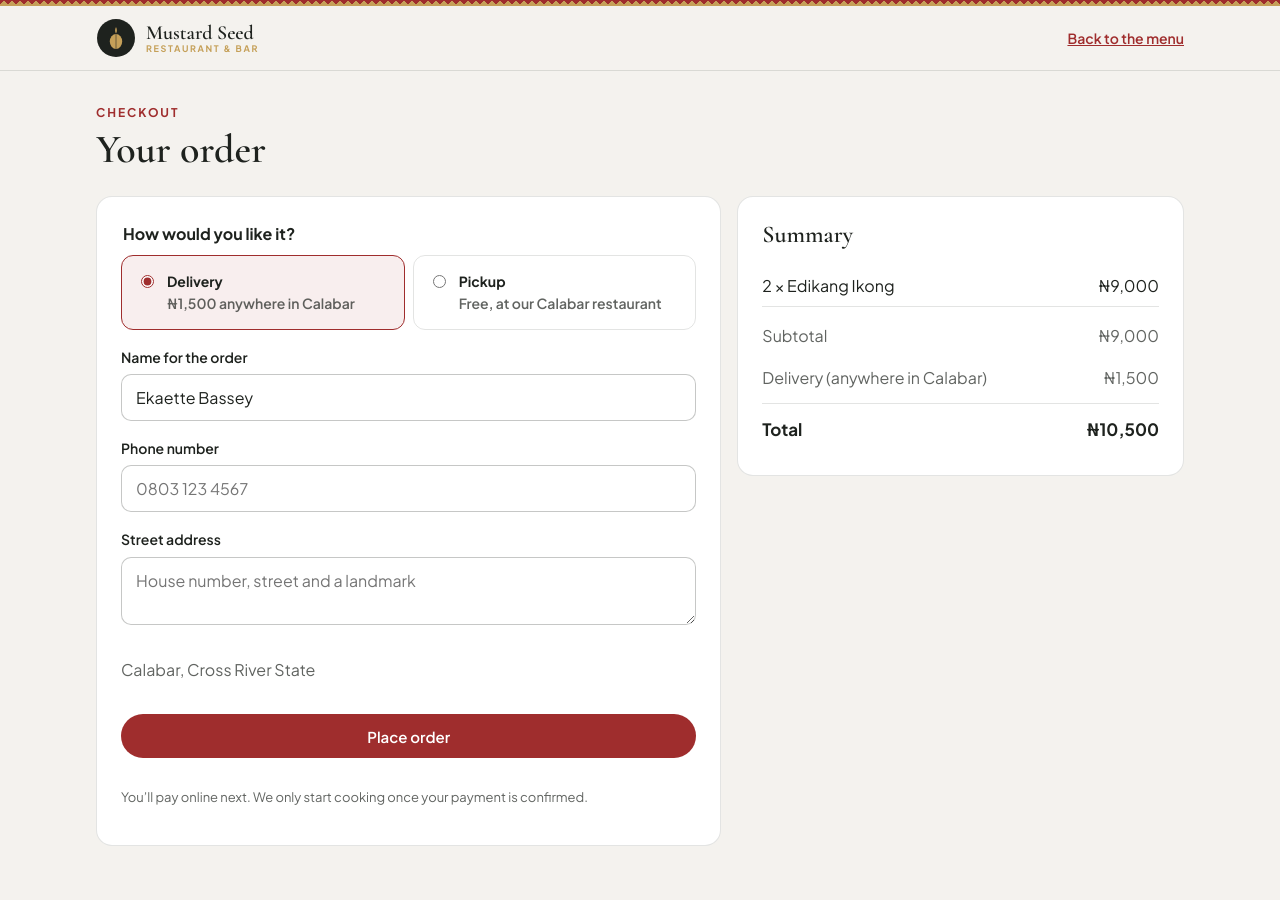
CheckoutView › shows server totals, prefills the name and re-quotes when switching to pickup
The width and height of the screenshot is (1280, 900).
Expected: the field named "fullName" holds "Ekaette Bassey", x1=121 y1=374 x2=696 y2=421
Expected: the text with test id "total" reads "₦10,500", x1=1086 y1=418 x2=1159 y2=440
Step 1. Click the radio button labelled "Pickup Free, at our Calabar restaurant" → (439, 281), box x1=433 y1=275 x2=446 y2=288
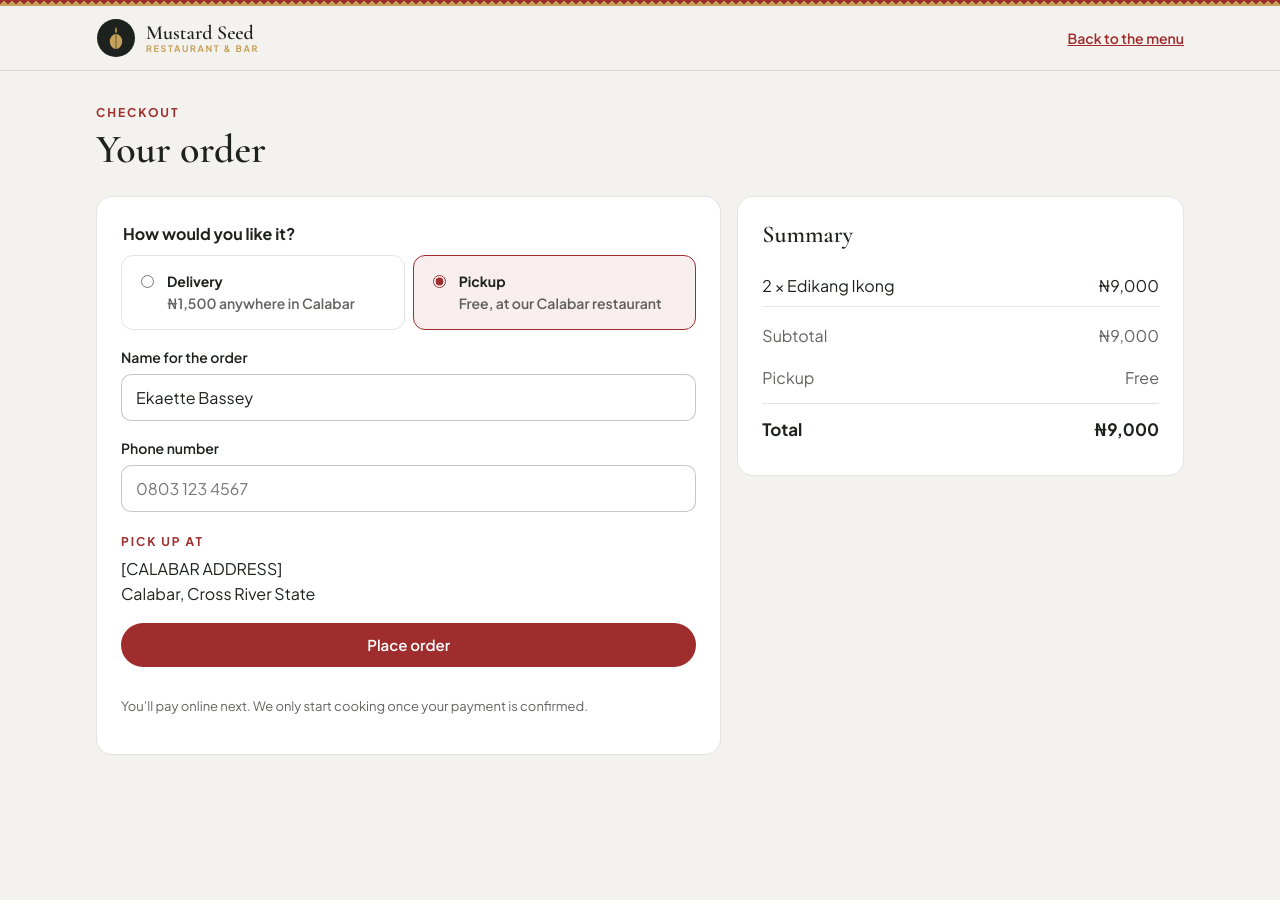
Result: the 3rd text with test id "total" reads "₦9,000" at x1=1094 y1=418 x2=1159 y2=440
